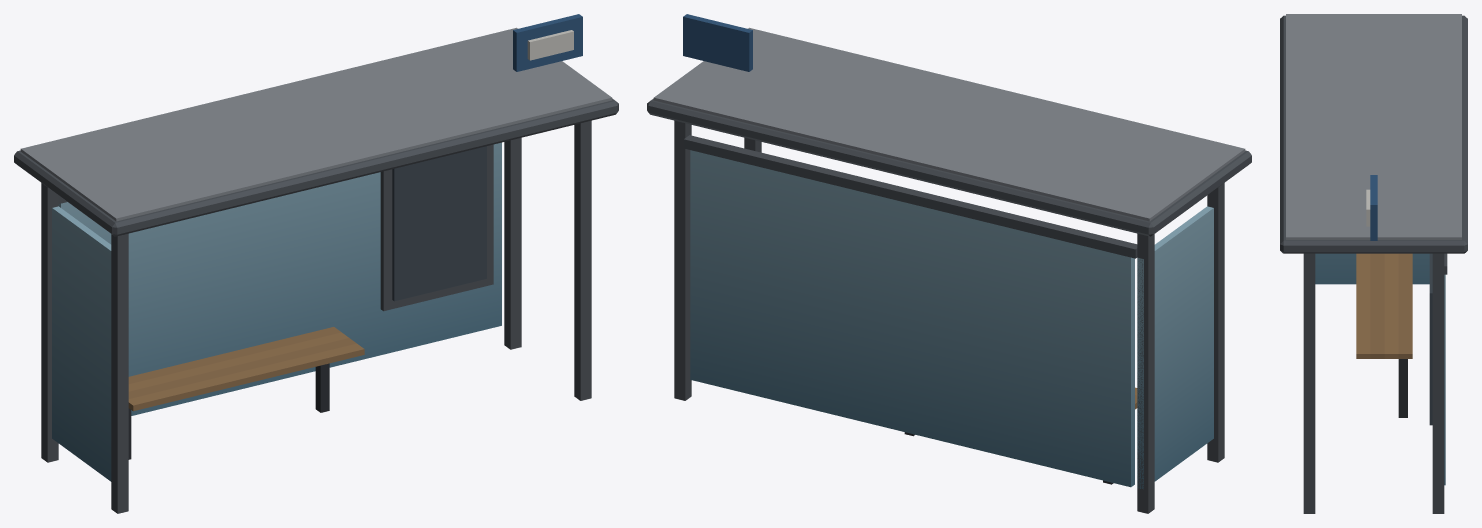
The model's file is transit_shelter_01.glb.
The picture shows the model from 3 angles, left to right: view 1: azimuth 30°, elevation 25°; view 2: azimuth 150°, elevation 25°; view 3: azimuth 270°, elevation 25°; orthographic projection. The views are drawn at different scales.
Parts seen in each view (by area): view 1: transit_shelter_01; view 2: transit_shelter_01; view 3: transit_shelter_01.
Part boxes in pixels (x1,y1,x2,y2): transit_shelter_01: (14, 14, 618, 513); transit_shelter_01: (647, 14, 1251, 513); transit_shelter_01: (1280, 14, 1467, 513).
Size of the model in its own units: 4.7 by 3.02 by 1.6.
